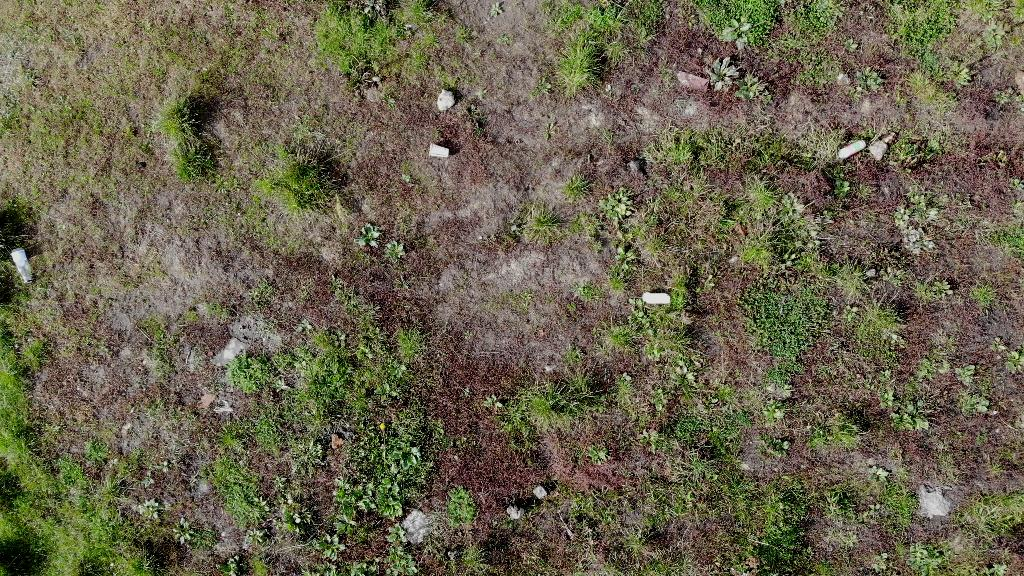garbage: (918, 481, 952, 521), (835, 136, 868, 162), (12, 248, 35, 285)
